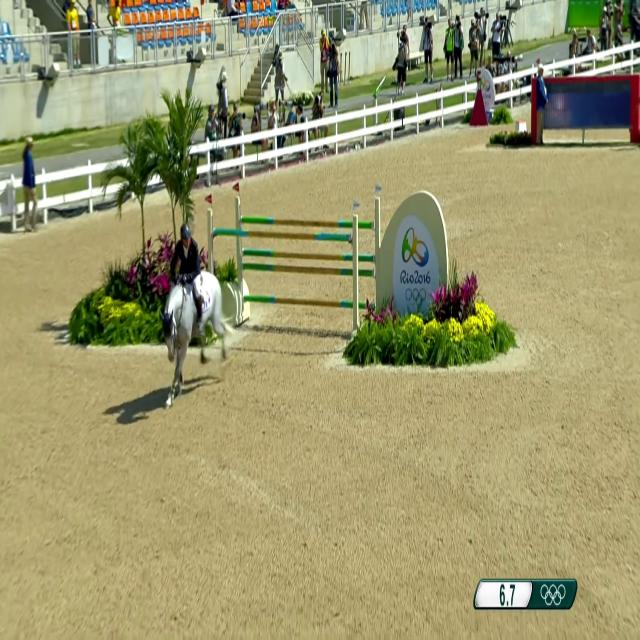Horse Running: (154, 232, 236, 442)
